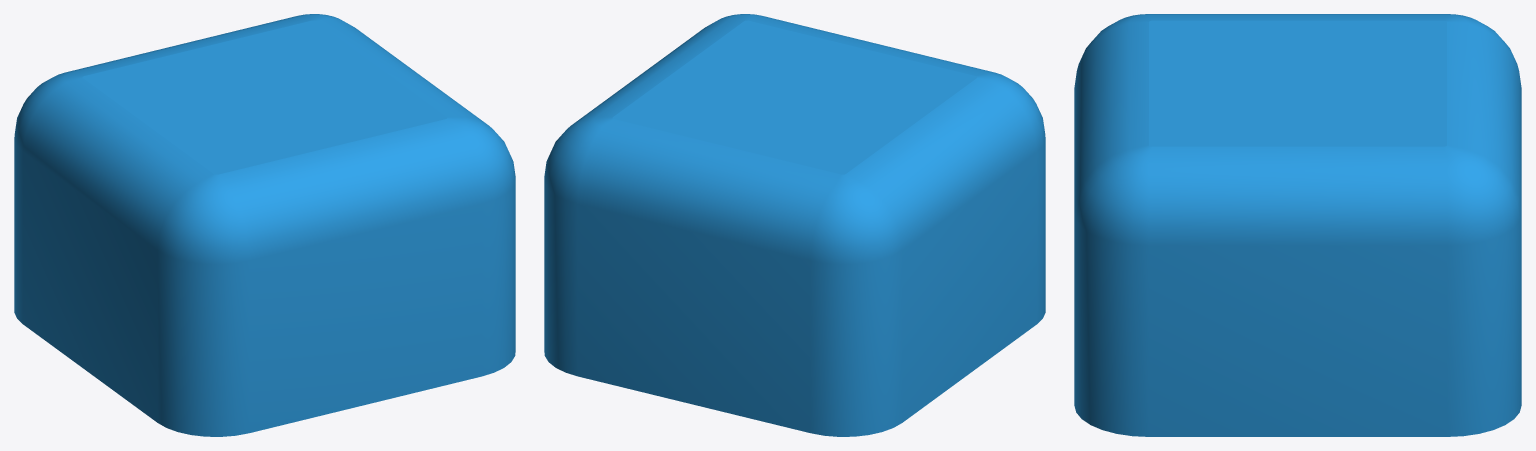
Rendered from AFJ_Pixel_1x1.fbx.
3 renders of one model, left to right at view 1: azimuth 30°, elevation 25°; view 2: azimuth 150°, elevation 25°; view 3: azimuth 270°, elevation 25°, orthographic. The views are drawn at different scales.
Visible parts, largest first — view 1: AFJ_Pixel_1x1; view 2: AFJ_Pixel_1x1; view 3: AFJ_Pixel_1x1.
Part boxes in pixels (box(x1,y1,x2,y2)): AFJ_Pixel_1x1: box(14, 14, 515, 436); AFJ_Pixel_1x1: box(544, 14, 1045, 436); AFJ_Pixel_1x1: box(1074, 14, 1521, 436).
Size of the model in its own units: 94 by 60 by 94.
